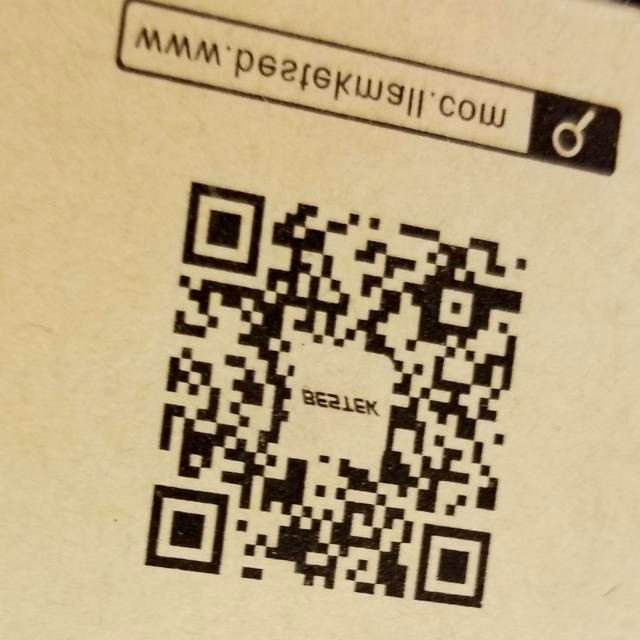qr-code: (125, 173, 544, 618)
